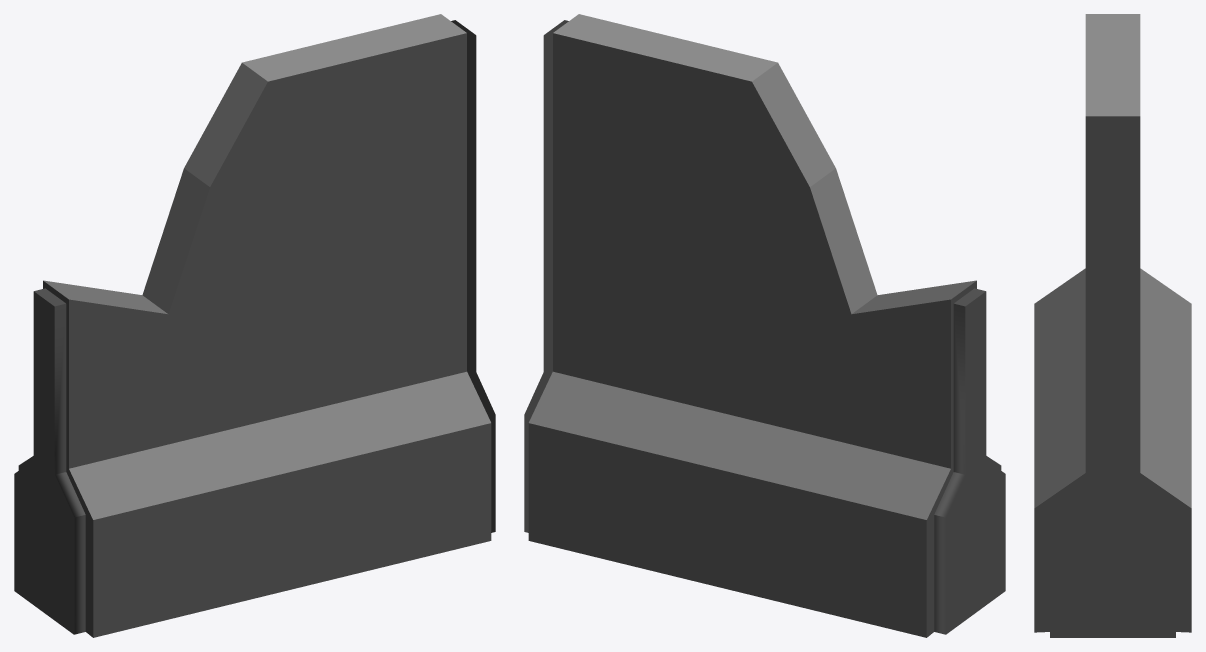
The model's file is SM_Prop_Wall_Concrete_Damaged_01.fbx.
3 views of the same model, side by side, from view 1: azimuth 30°, elevation 25°; view 2: azimuth 150°, elevation 25°; view 3: azimuth 270°, elevation 25° (orthographic). The views are drawn at different scales.
Parts seen in each view (by area): view 1: SM_Prop_Wall_Concrete_Damaged_01; view 2: SM_Prop_Wall_Concrete_Damaged_01; view 3: SM_Prop_Wall_Concrete_Damaged_01.
Boxes of the visible parts, x1=… form: SM_Prop_Wall_Concrete_Damaged_01: x1=14, y1=14, x2=495, y2=637; SM_Prop_Wall_Concrete_Damaged_01: x1=524, y1=14, x2=1005, y2=637; SM_Prop_Wall_Concrete_Damaged_01: x1=1034, y1=14, x2=1191, y2=637.
Size of the model in its own units: 5 by 5.55 by 1.53.
